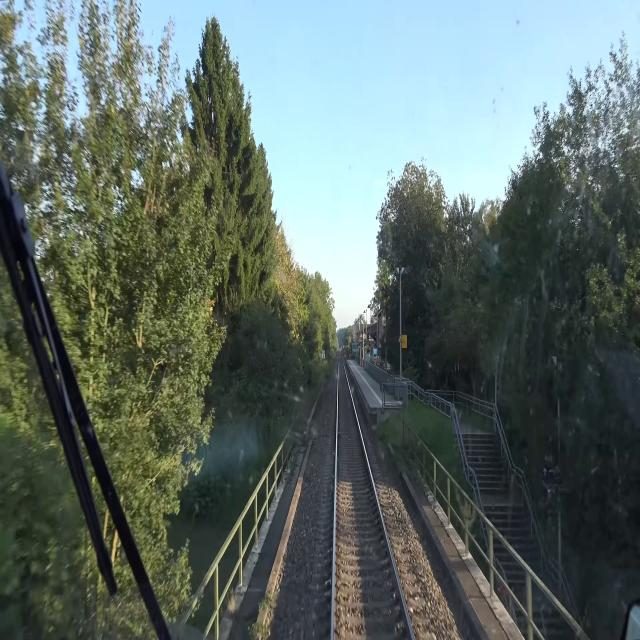rail-track: (336, 359, 410, 639)
